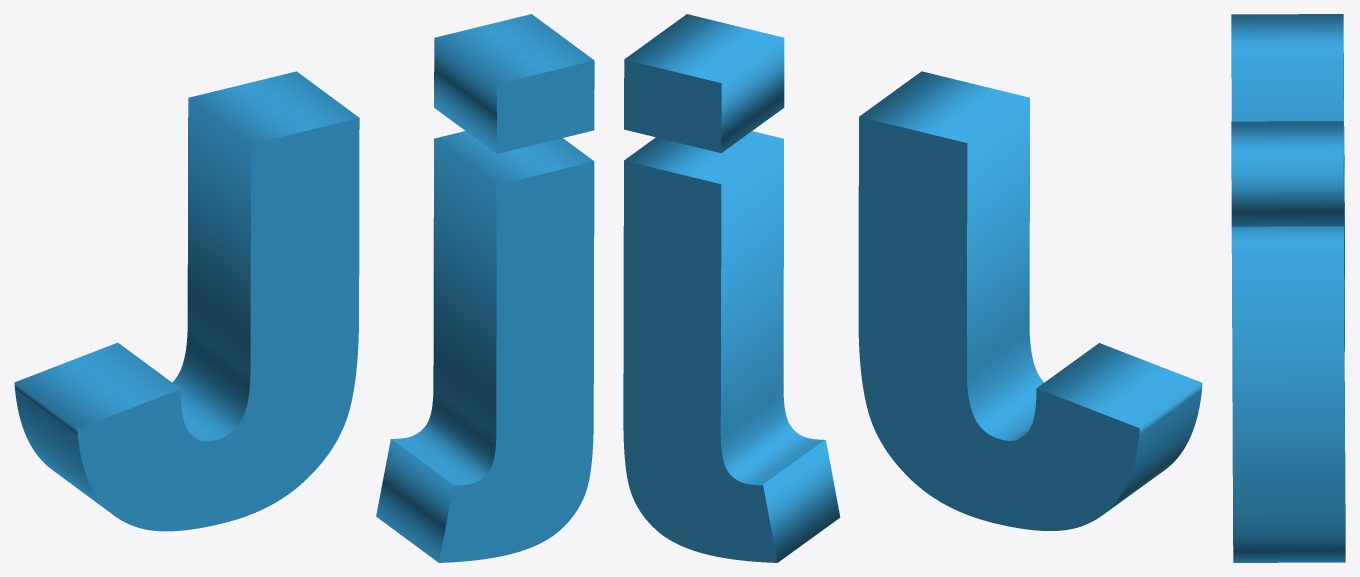
The model's file is letra j.fbx.
3 renders of one model, left to right at view 1: azimuth 30°, elevation 25°; view 2: azimuth 150°, elevation 25°; view 3: azimuth 270°, elevation 25°, orthographic. The views are drawn at different scales.
Visible parts, largest first — view 1: Text; view 2: Text; view 3: Text.
Part boxes in pixels (bbox=[...]): Text: bbox=[14, 14, 594, 562]; Text: bbox=[623, 14, 1202, 562]; Text: bbox=[1231, 14, 1345, 562].
Size of the model in its own units: 75.96 by 66.7 by 16.27.
